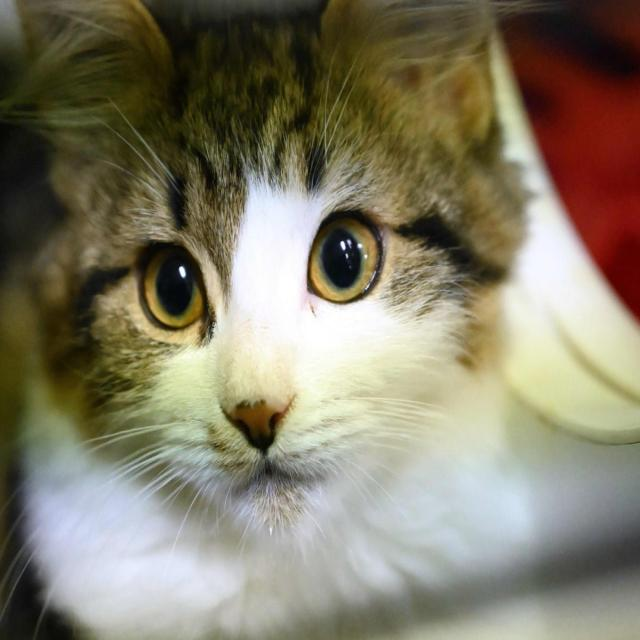cat: (3, 0, 640, 639)
